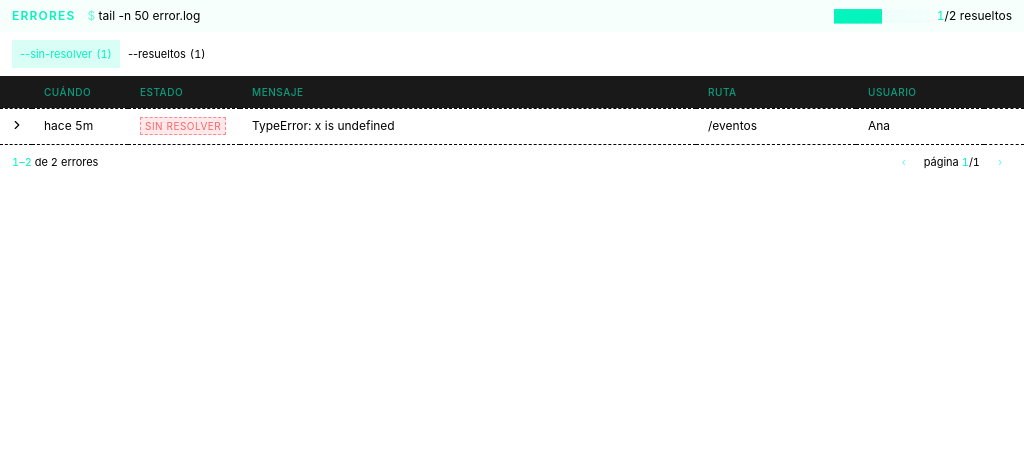
Test: ErrorsClient › shows unresolved errors first and switches to resolved ones
Expected: the text "TypeError: x is undefined" is shown, [252, 118, 395, 133]
Expected: the text "viejo" is not shown
Click the button "--resueltos(1)": (167, 54) [120, 40, 214, 68]
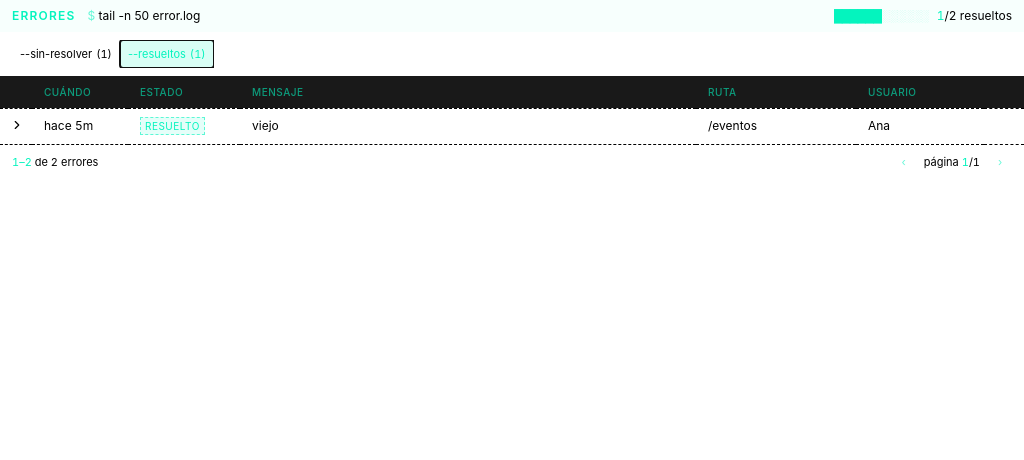
Result: the text "viejo" is shown at [252, 118, 279, 133]
Click the button named "Ver detalles de viejo": (17, 125) [8, 116, 26, 134]
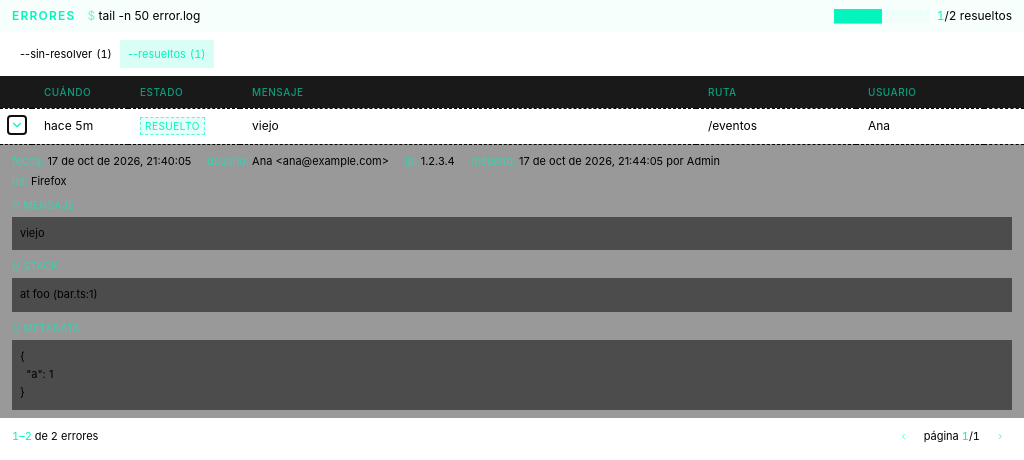
Result: the text "resuelto: 17 de oct de 2026, 21:44:05 por Admin" is shown at [471, 152, 720, 168]
